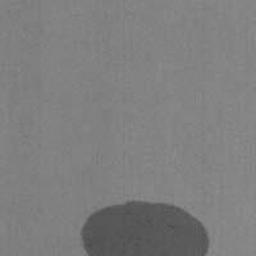Oil spot: (81, 201, 209, 256)
